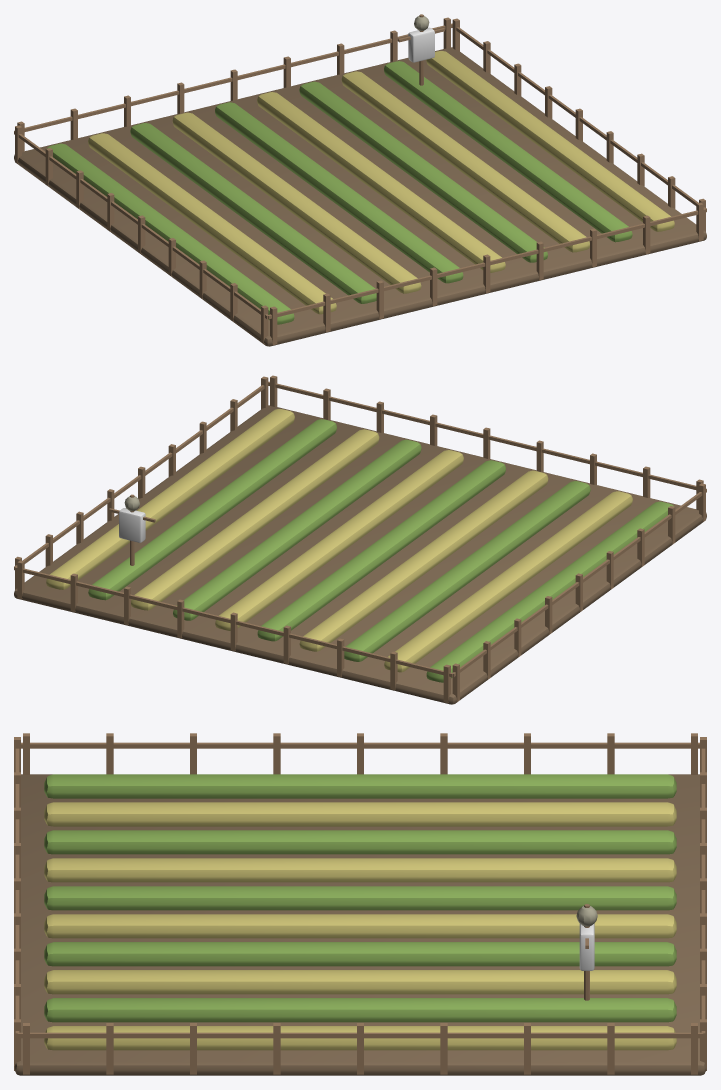
The model's file is farm.glb.
3 renders of one model, top to bottom at view 1: azimuth 30°, elevation 25°; view 2: azimuth 150°, elevation 25°; view 3: azimuth 270°, elevation 25°, orthographic. The views are drawn at different scales.
Visible parts, largest first — view 1: body; view 2: body; view 3: body.
Part boxes in pixels (left/top/right/bottom): body: left=14, top=14, right=706, bottom=346; body: left=14, top=375, right=706, bottom=704; body: left=14, top=733, right=706, bottom=1075.
Bounding box in the file's own units: 11.62 × 2.27 × 11.62.
